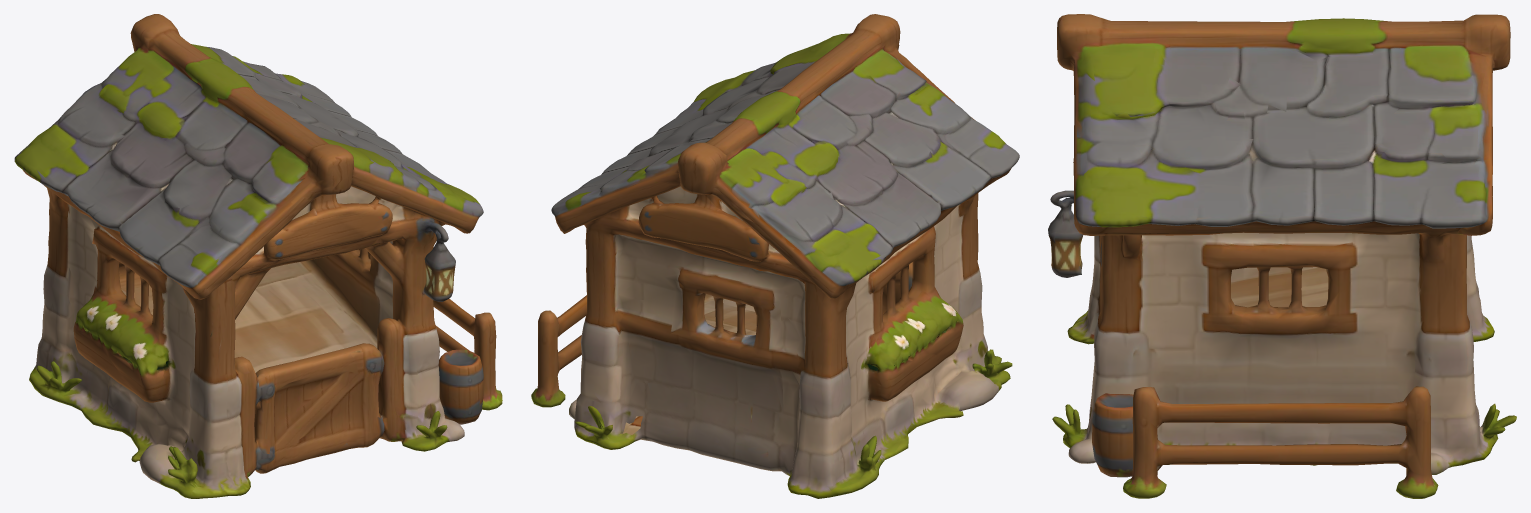
3 views of the same model, side by side, from view 1: azimuth 30°, elevation 25°; view 2: azimuth 150°, elevation 25°; view 3: azimuth 270°, elevation 25° (orthographic). The views are drawn at different scales.
Parts seen in each view (by area): view 1: tripo_node_53b79d4a-67bd-43c6-ab93-d5aec6058f08; view 2: tripo_node_53b79d4a-67bd-43c6-ab93-d5aec6058f08; view 3: tripo_node_53b79d4a-67bd-43c6-ab93-d5aec6058f08.
Part boxes in pixels (x1,y1,x2,y2): tripo_node_53b79d4a-67bd-43c6-ab93-d5aec6058f08: (14,14,502,498); tripo_node_53b79d4a-67bd-43c6-ab93-d5aec6058f08: (531,14,1019,498); tripo_node_53b79d4a-67bd-43c6-ab93-d5aec6058f08: (1048,14,1516,498).
Size of the model in its own units: 3.37 by 3 by 3.4.
Materials: 1 (1 with a texture image).
